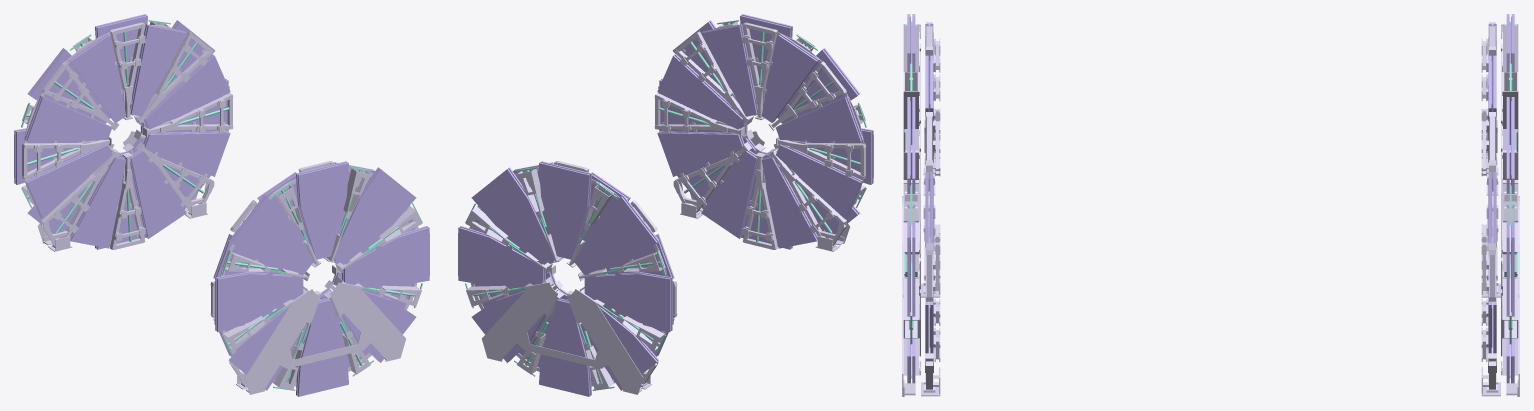
The model's file is Small-Wheel-Chambers.gltf.
3 renders of one model, left to right at view 1: azimuth 30°, elevation 25°; view 2: azimuth 150°, elevation 25°; view 3: azimuth 270°, elevation 25°, orthographic. The views are drawn at different scales.
Visible parts, largest first — view 1: _04DACB68, _05350AB8, _05268DB8; view 2: _04DACB68, _05350AB8, _05268DB8; view 3: _05350AB8, _04DACB68, _0532A6A8, _05268DB8.
Part boxes in pixels (<box>): _04DACB68: <box>14,14,429,396</box>; _05350AB8: <box>22,21,421,394</box>; _05268DB8: <box>21,20,422,390</box>; _04DACB68: <box>458,14,873,396</box>; _05350AB8: <box>466,21,865,394</box>; _05268DB8: <box>465,20,866,390</box>; _05350AB8: <box>902,22,1519,396</box>; _04DACB68: <box>907,14,1514,383</box>; _0532A6A8: <box>910,16,1511,383</box>; _05268DB8: <box>903,21,1518,378</box>.
Bounding box in the file's own units: 9.29 × 9.29 × 15.74.
